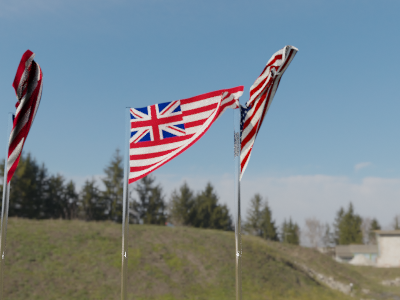America flag: (241, 42, 303, 179)
Liberia flag: (8, 47, 47, 181)
Malaysia flag: (131, 84, 240, 185)
